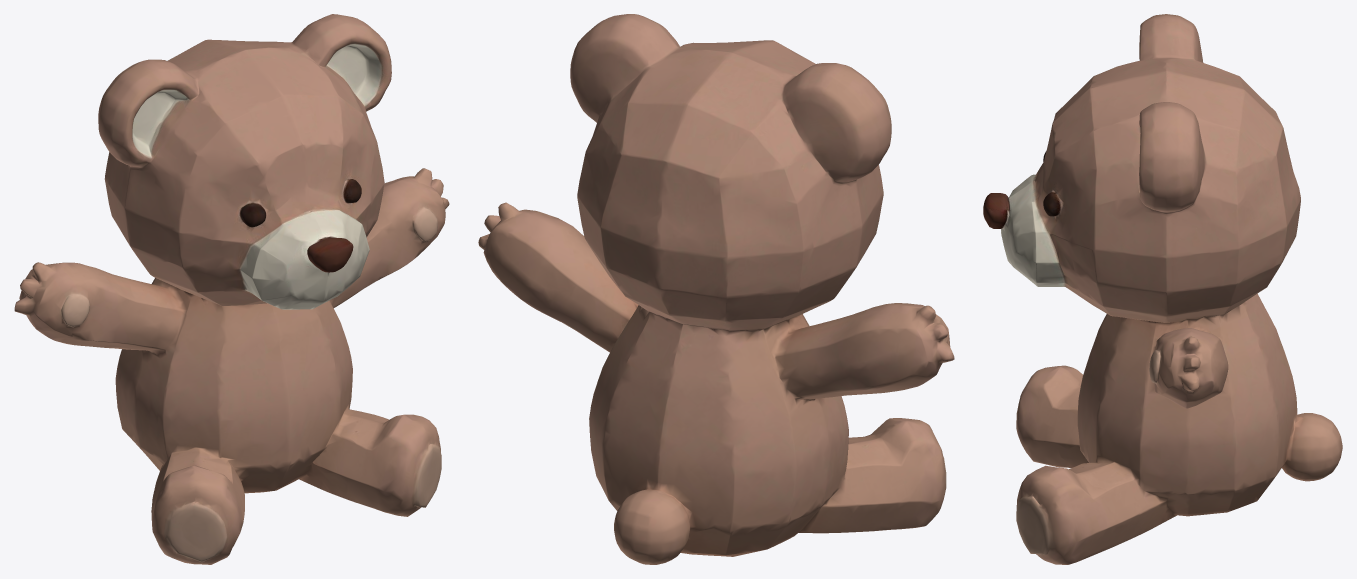
The model's file is furniture_teddy.glb.
3 renders of one model, left to right at view 1: azimuth 30°, elevation 25°; view 2: azimuth 150°, elevation 25°; view 3: azimuth 270°, elevation 25°, orthographic. The views are drawn at different scales.
Visible parts, largest first — view 1: tripo_node_537c5fd0-e860-4381-b6d8-01dfec9b3a7c; view 2: tripo_node_537c5fd0-e860-4381-b6d8-01dfec9b3a7c; view 3: tripo_node_537c5fd0-e860-4381-b6d8-01dfec9b3a7c.
Boxes of the visible parts, x1,y1,x2,y2 form: tripo_node_537c5fd0-e860-4381-b6d8-01dfec9b3a7c: (14,14,449,564); tripo_node_537c5fd0-e860-4381-b6d8-01dfec9b3a7c: (478,14,954,564); tripo_node_537c5fd0-e860-4381-b6d8-01dfec9b3a7c: (983,14,1342,564).
Bounding box in the file's own units: 0.9782 × 0.9804 × 0.709.
1 material, 1 textured.
